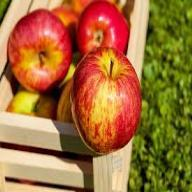apple: (72, 48, 140, 147), (9, 12, 71, 96), (78, 3, 132, 52)
